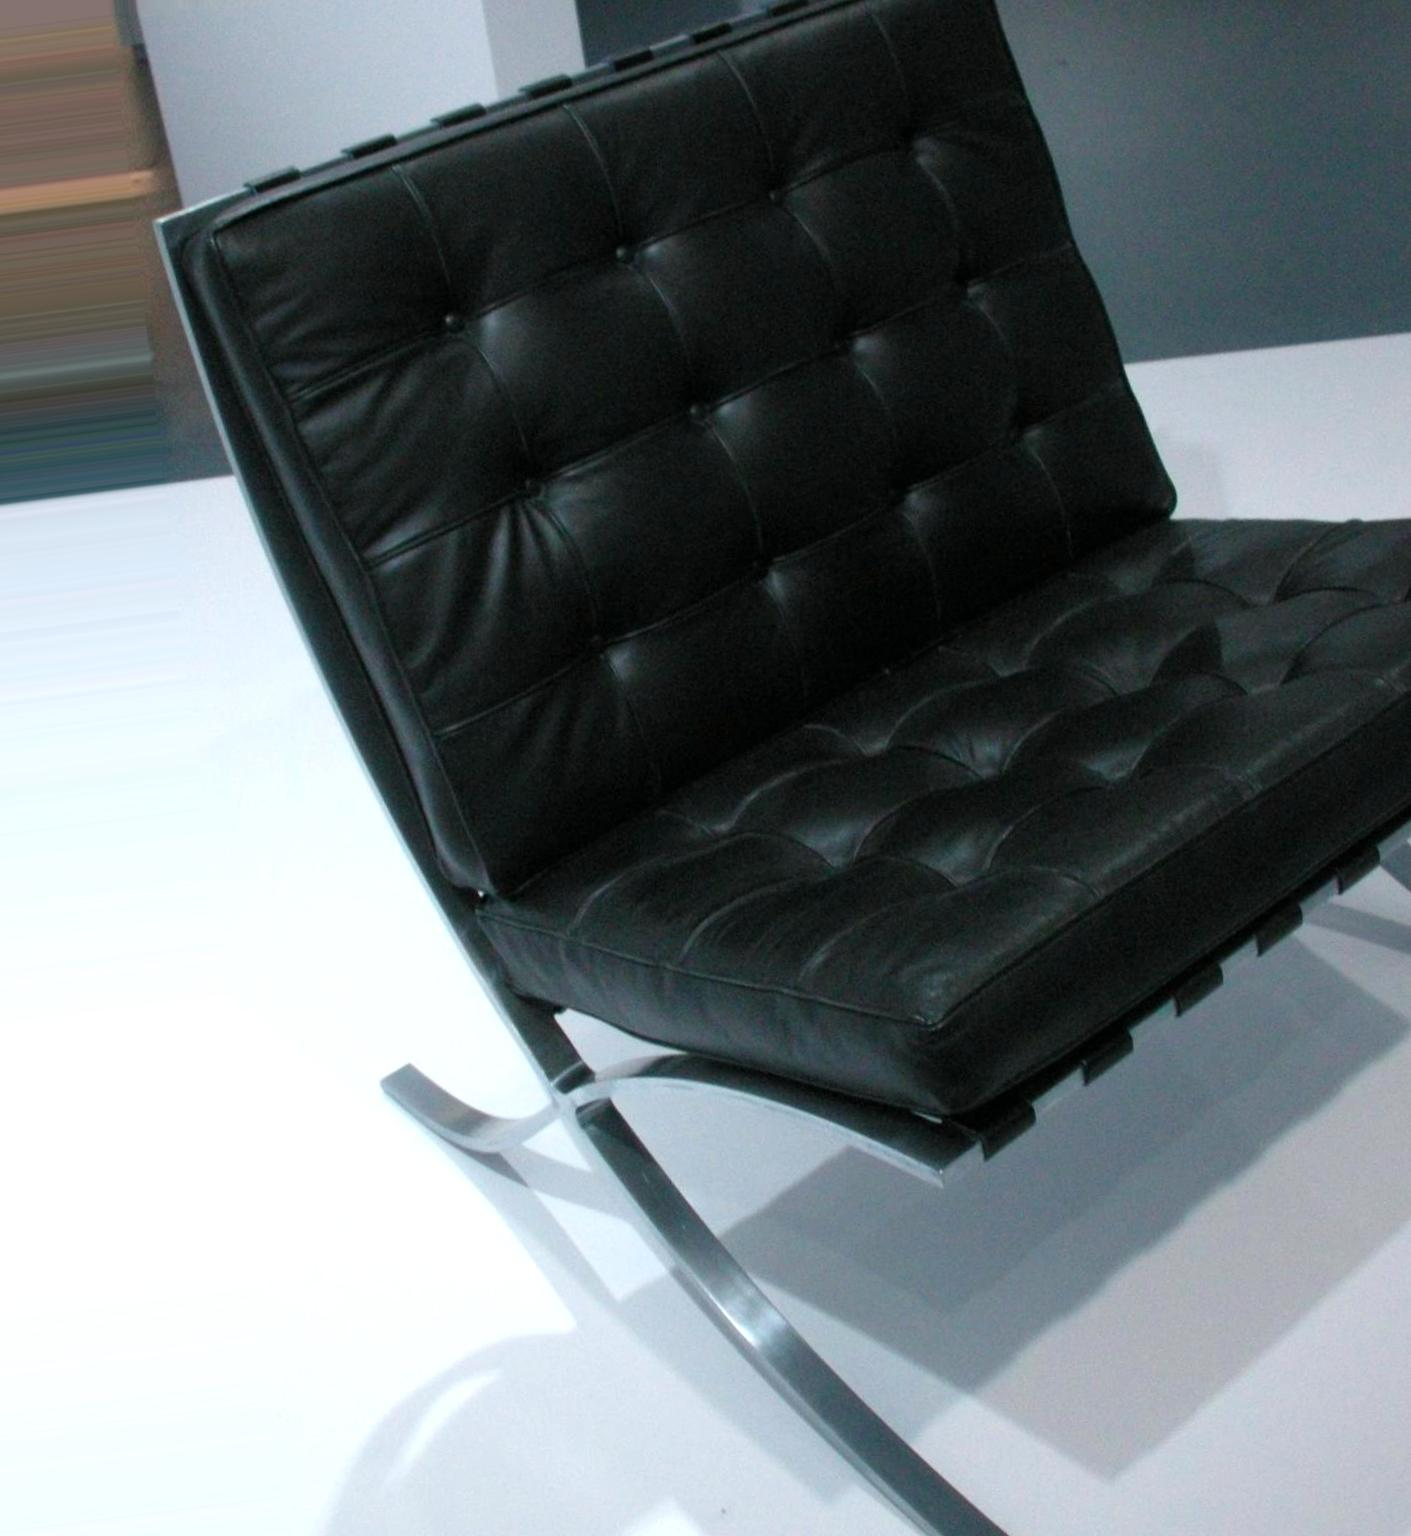chair: (152, 1, 1411, 1531)
